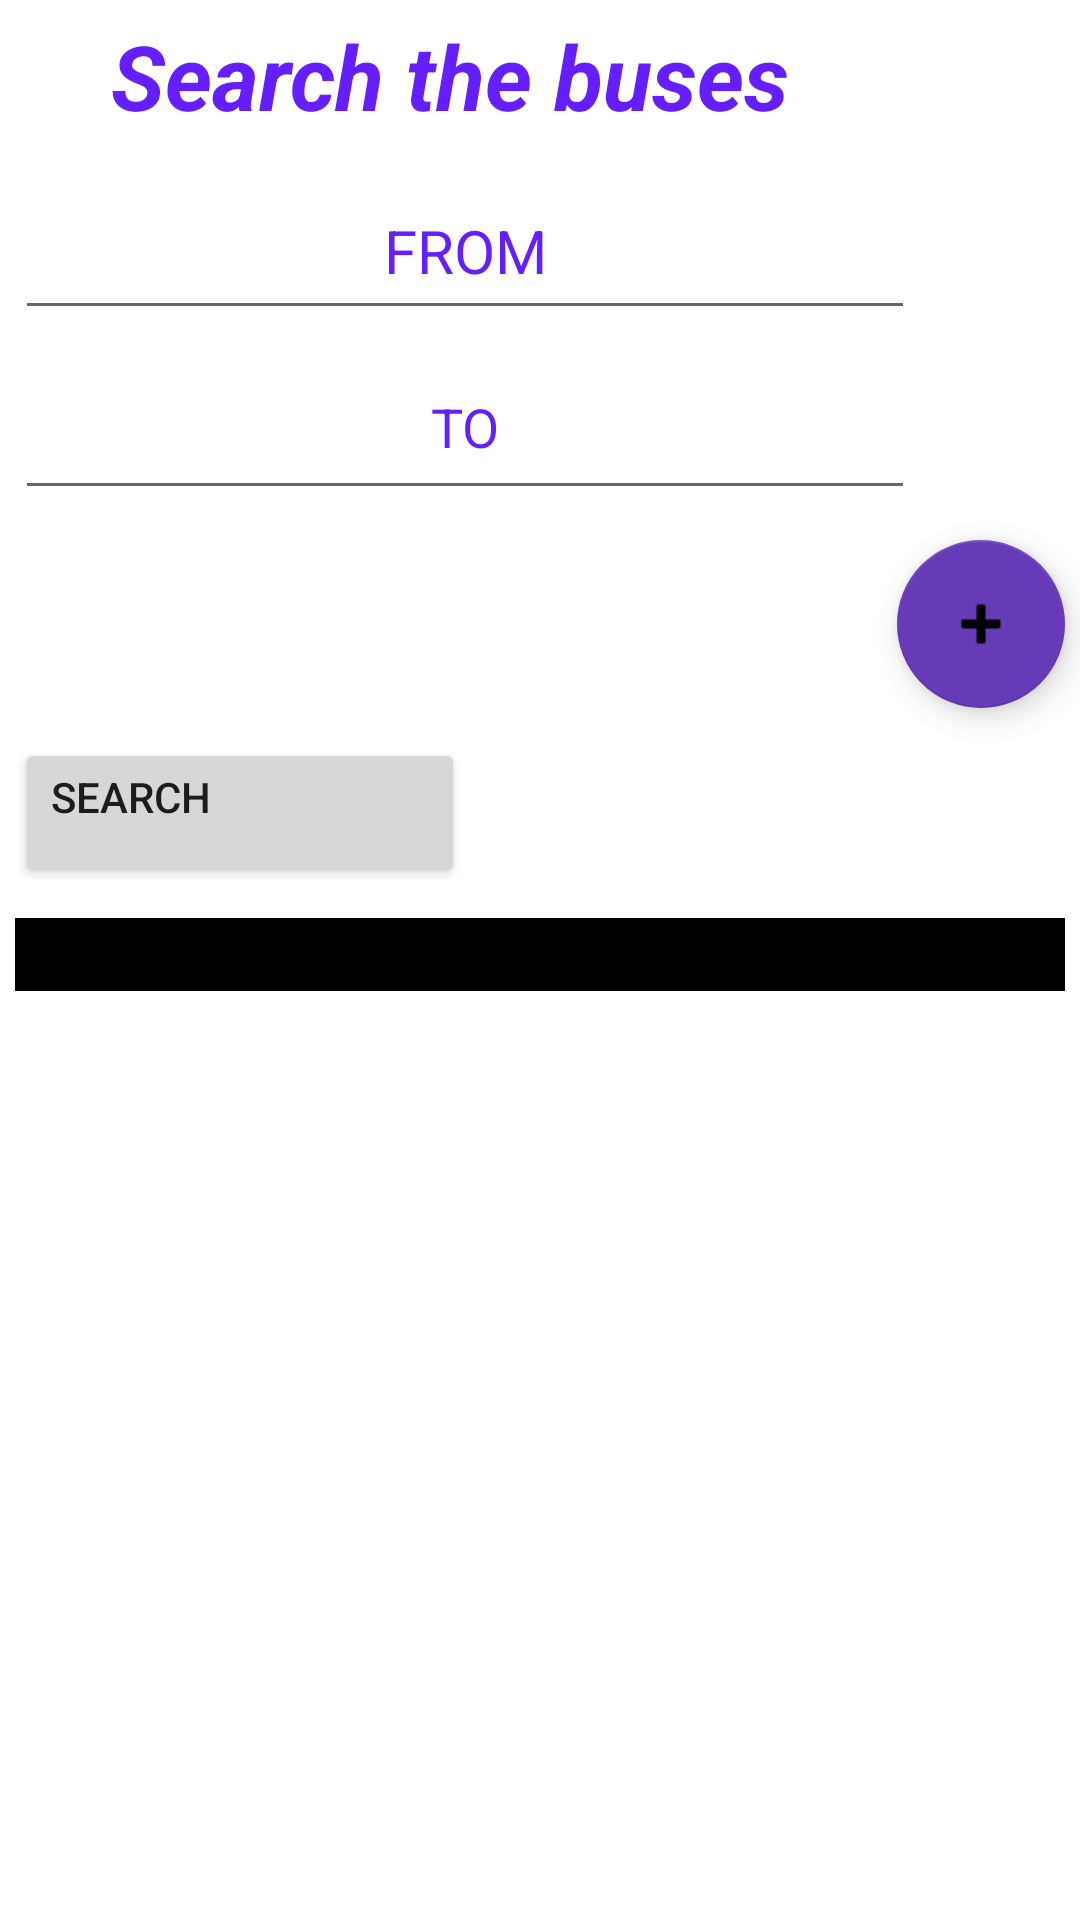

Screen size 1080 × 1920. Icon name, then its box in pixels as bbox(x1, y1, x2, y2):
add: bbox(897, 540, 1065, 708)
